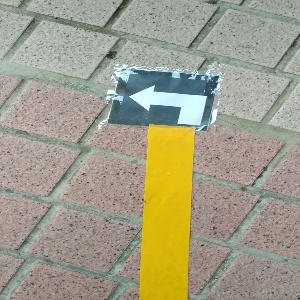left: (108, 69, 218, 130)
